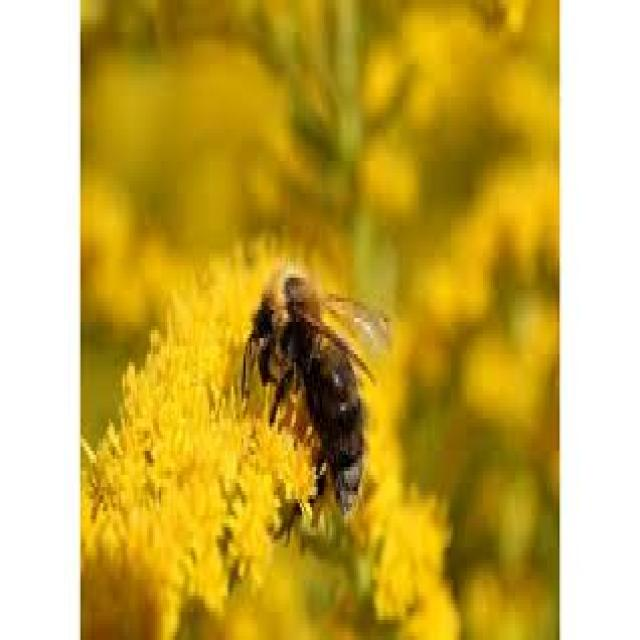Bees: (241, 267, 389, 526)
